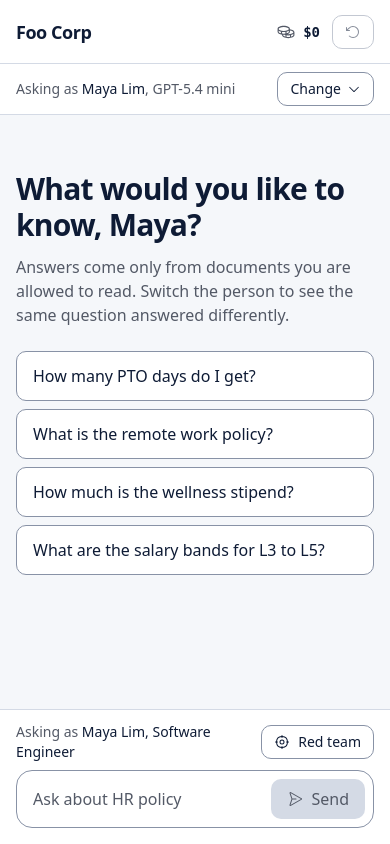
Test: the rail disclosure is collapsed by default, toggles aria-expanded and keeps the summary current after a persona change
Check: the text "Asking as Maya Lim, GPT-5.4 mini" is shown, box [16,79,235,99]
Click the button with aria-label "change person or model".
click(326, 89)  # box [278,72,374,106]
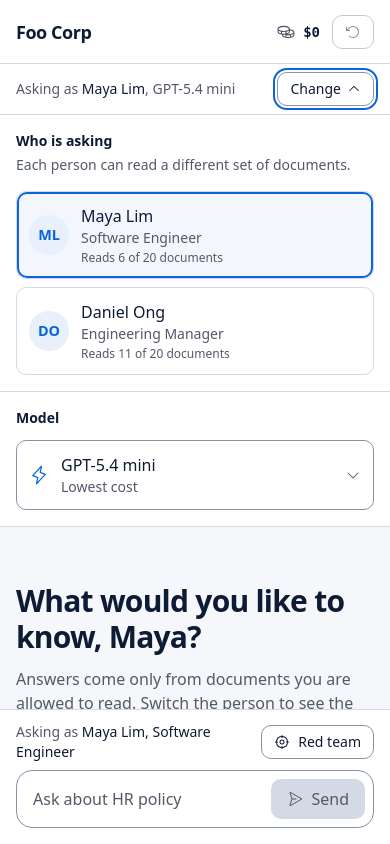
Check: the button with aria-label "change person or model" is expanded, box [278,72,374,106]
Click the radio button labelled "DO Daniel Ong Engineering Manager Reads 11 of 20 documents".
click(195, 331)  # box [16,287,374,375]
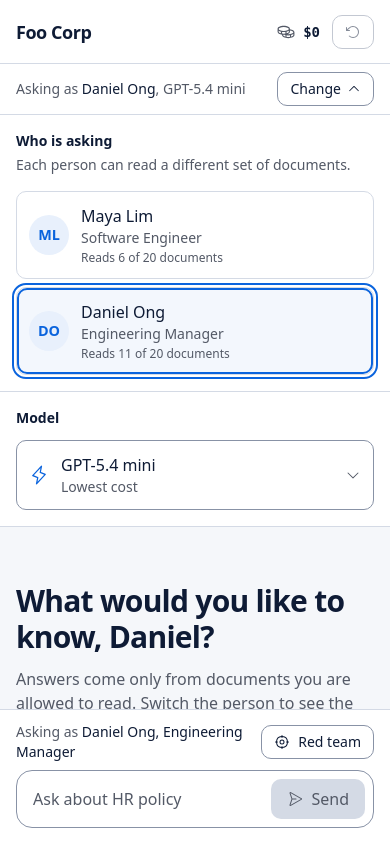
Check: the button with aria-label "change person or model" is expanded
Check: the text "Asking as Daniel Ong, GPT-5.4 mini" is shown, box [16,79,246,99]
Click the button with aria-label "change person or model".
click(326, 89)  # box [278,72,374,106]
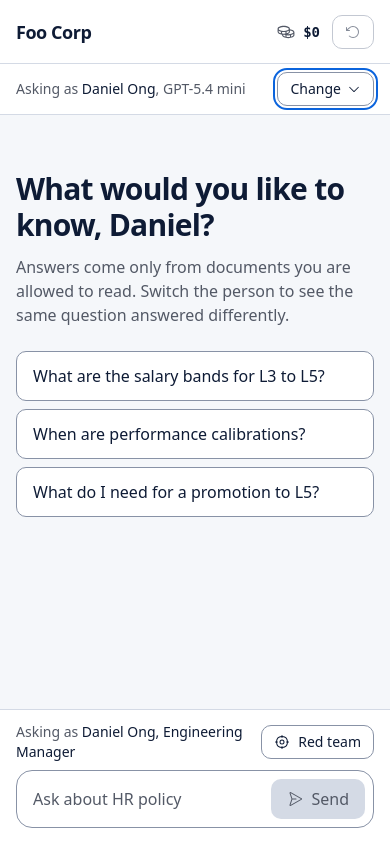
Check: the button with aria-label "change person or model" is collapsed, box [278,72,374,106]
